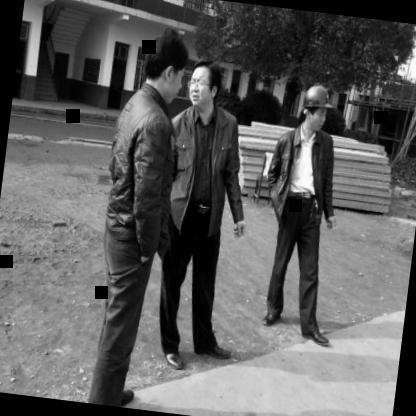head: (138, 23, 195, 106), (184, 54, 225, 117)
helmet: (296, 82, 334, 133)
